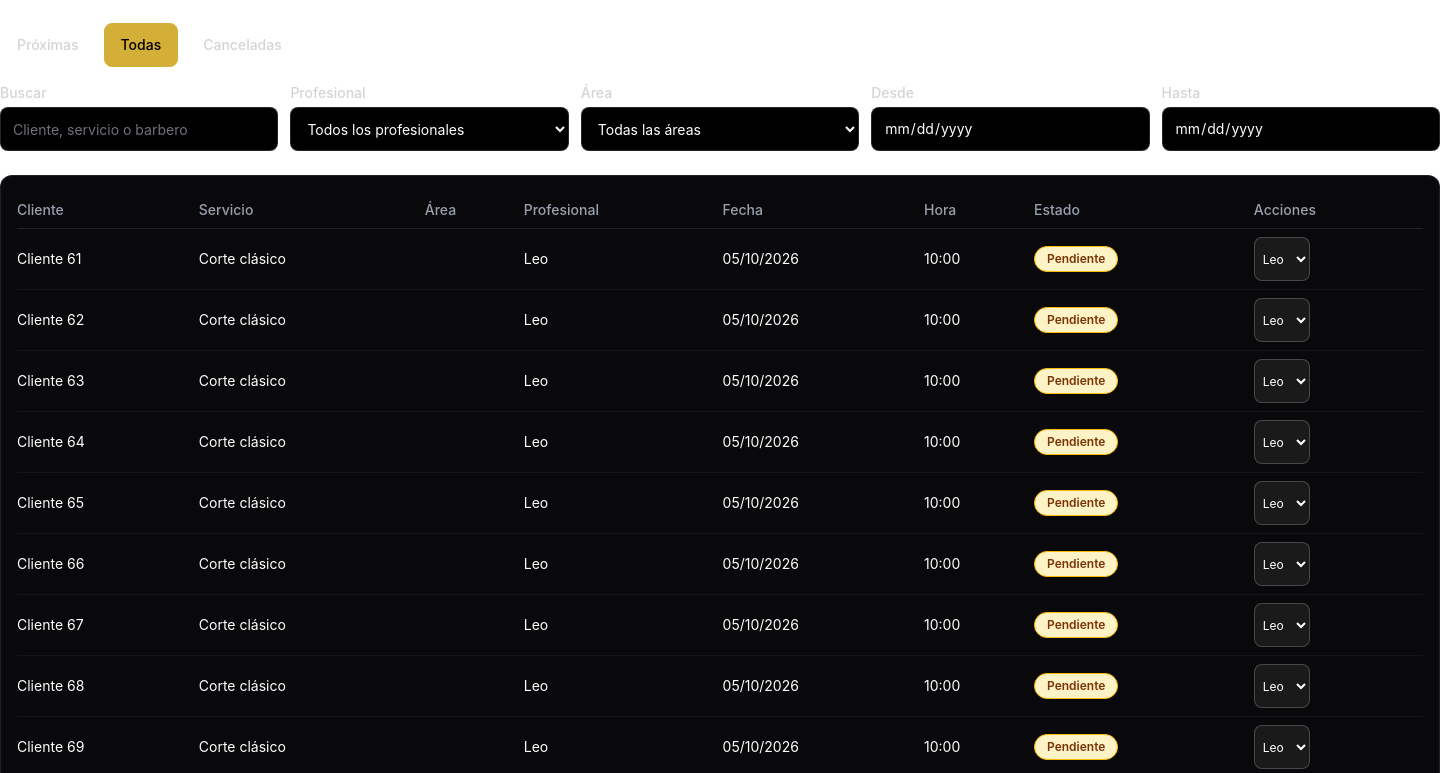
/admin/citas: los filtros reinician la página › cambiar de pestaña vuelve a la página 1
Click the button "Canceladas". click: (242, 45)
box: x1=186 y1=23 x2=299 y2=67
(page scrolled)
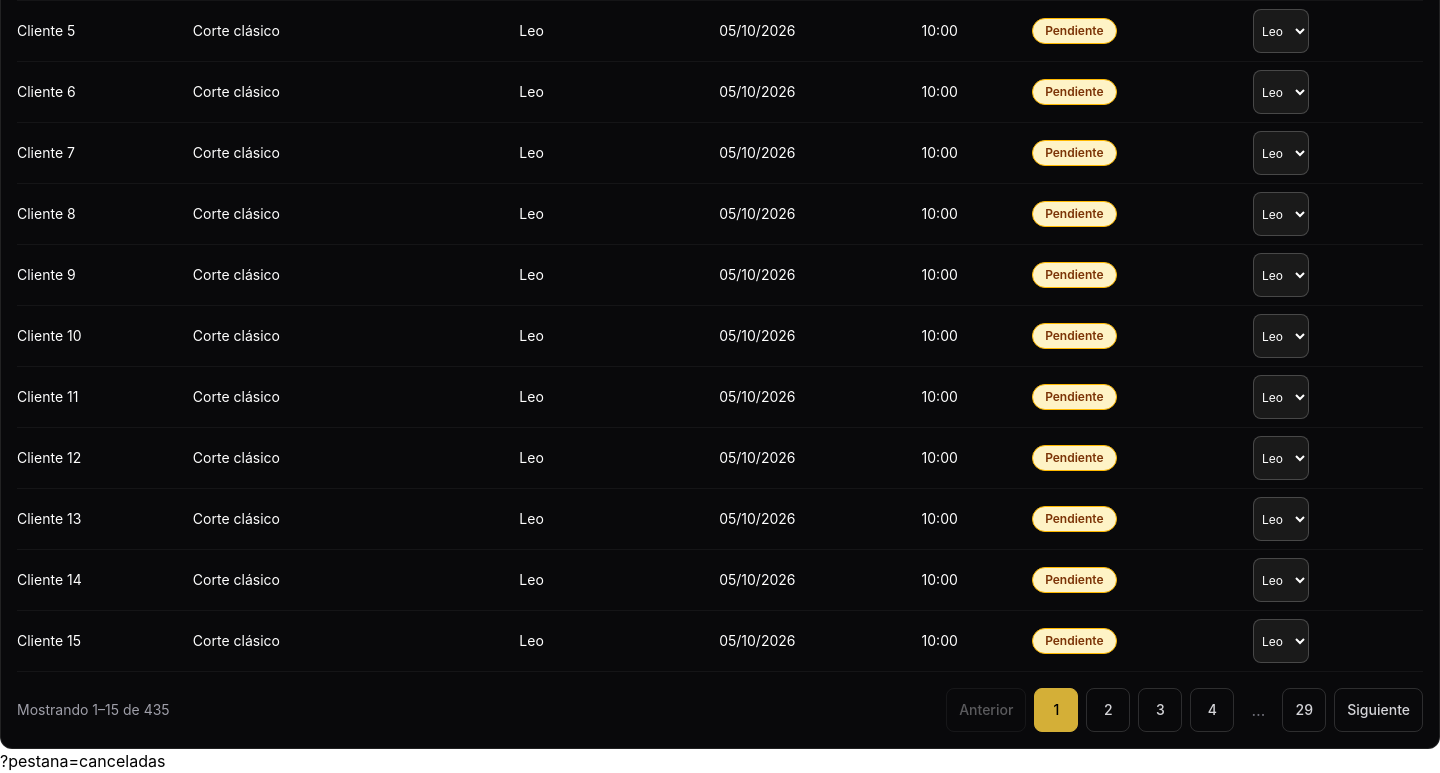
Now the text "Mostrando 1–15 de 435" is shown, box x1=17 y1=700 x2=170 y2=720
